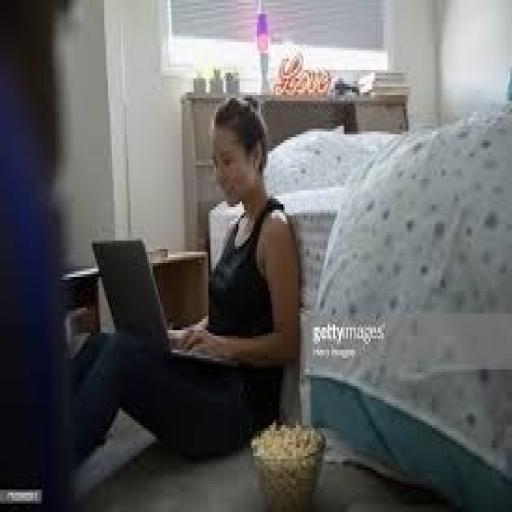using_laptop: (90, 235, 238, 372)
